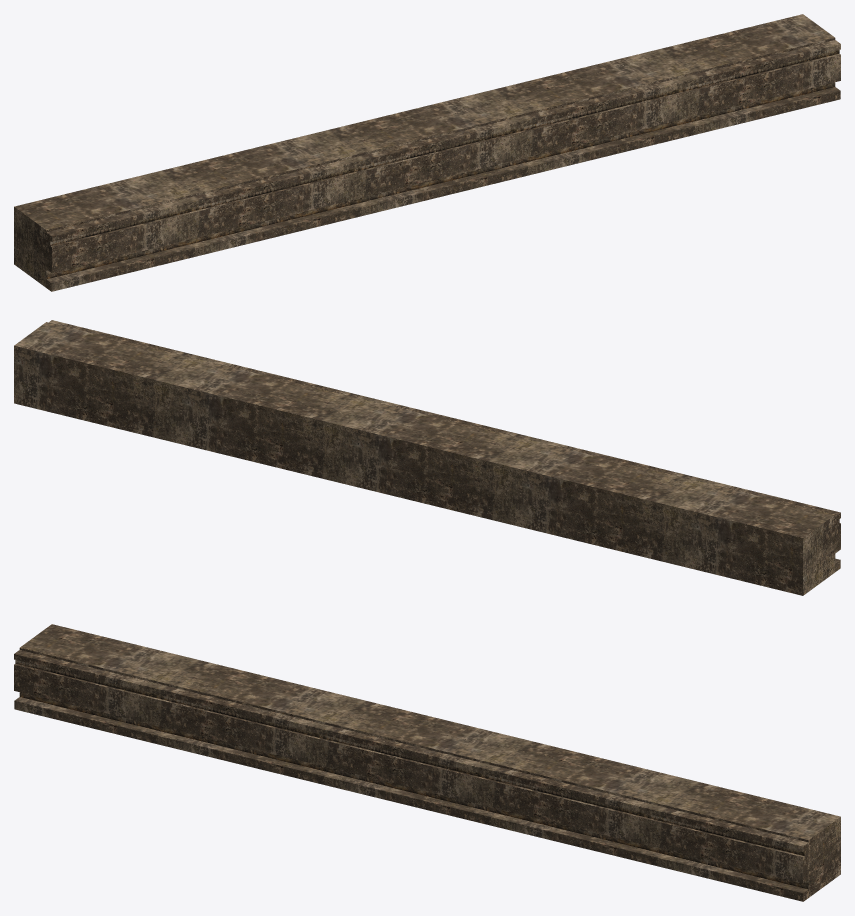
Rendered from materials_5_stonestick_long_3.fbx.
3 views of the same model, one above another, from view 1: azimuth 30°, elevation 25°; view 2: azimuth 150°, elevation 25°; view 3: azimuth 330°, elevation 25° (orthographic).
Parts seen in each view (by area): view 1: materials_5_stonestick_long_3; view 2: materials_5_stonestick_long_3; view 3: materials_5_stonestick_long_3.
Boxes of the visible parts, left/top/right/bottom form: materials_5_stonestick_long_3: left=14, top=14, right=840, bottom=291; materials_5_stonestick_long_3: left=14, top=320, right=840, bottom=595; materials_5_stonestick_long_3: left=14, top=624, right=840, bottom=901.
Bounding box in the file's own units: 512 × 35.84 × 42.68.
